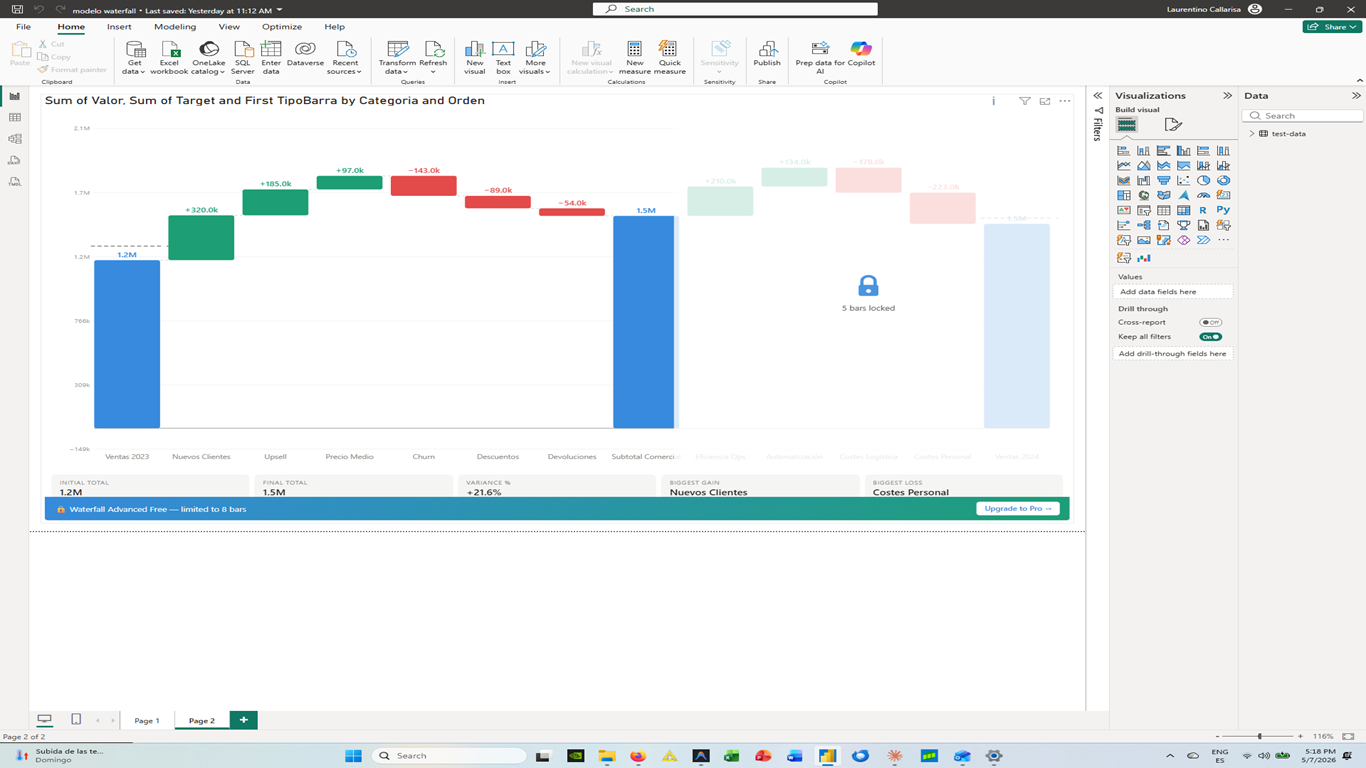

Layout of this report page (visuals, bound fields, positions):
{"tool":"powerbi","page":{"name":"Page 2","canvas":[1280,720],"ordinal":1},"visuals":[{"type":"WaterfallAdvanced285e2ced869b4cbaaff42317a24068cc","fields":{"category":["test-data.Categoria"],"sortOrder":["test-data.Orden"],"target":["Sum(test-data.Target)"],"barType":["Min(test-data.TipoBarra)"],"measure":["Sum(test-data.Valor)"]},"box":[14.9,11.5,1243.2,689.4],"z":0}]}

Visuals, with their boxes on the page's 1280x720 design canvas (x1, y1, x2, y2). These are canvas units, not pixel positions in the 1366x768 screenshot, which may show the page scaled, cropped or inside an application window:
WaterfallAdvanced285e2ced869b4cbaaff42317a24068cc - test-data.Categoria x test-data.Orden: box(15, 12, 1258, 701)
